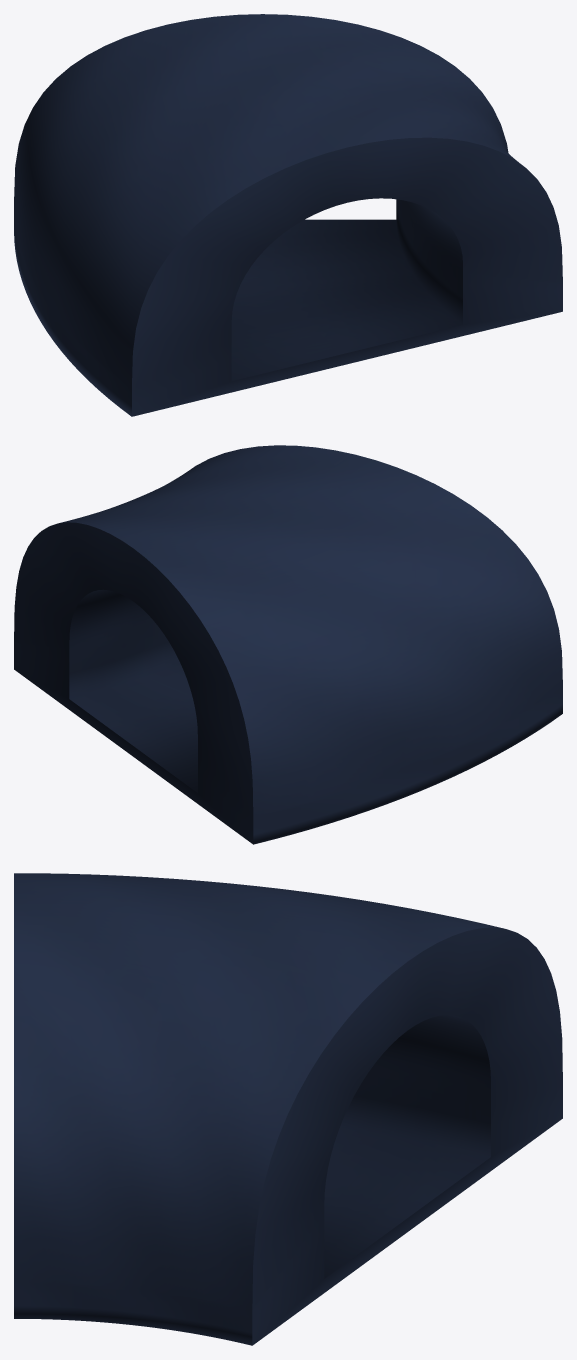
Rendered from curve_right_30_terrain.glb.
3 views of the same model, one above another, from view 1: azimuth 30°, elevation 25°; view 2: azimuth 150°, elevation 25°; view 3: azimuth 270°, elevation 25° (orthographic). The views are drawn at different scales.
Parts seen in each view (by area): view 1: TerrainRoof.008; view 2: TerrainRoof.008; view 3: TerrainRoof.008.
Part boxes in pixels (box(x1,y1,x2,y2)): TerrainRoof.008: box(14, 14, 562, 416); TerrainRoof.008: box(14, 445, 562, 844); TerrainRoof.008: box(14, 873, 562, 1345).
Size of the model in its own units: 31.32 by 13.65 by 25.1.
